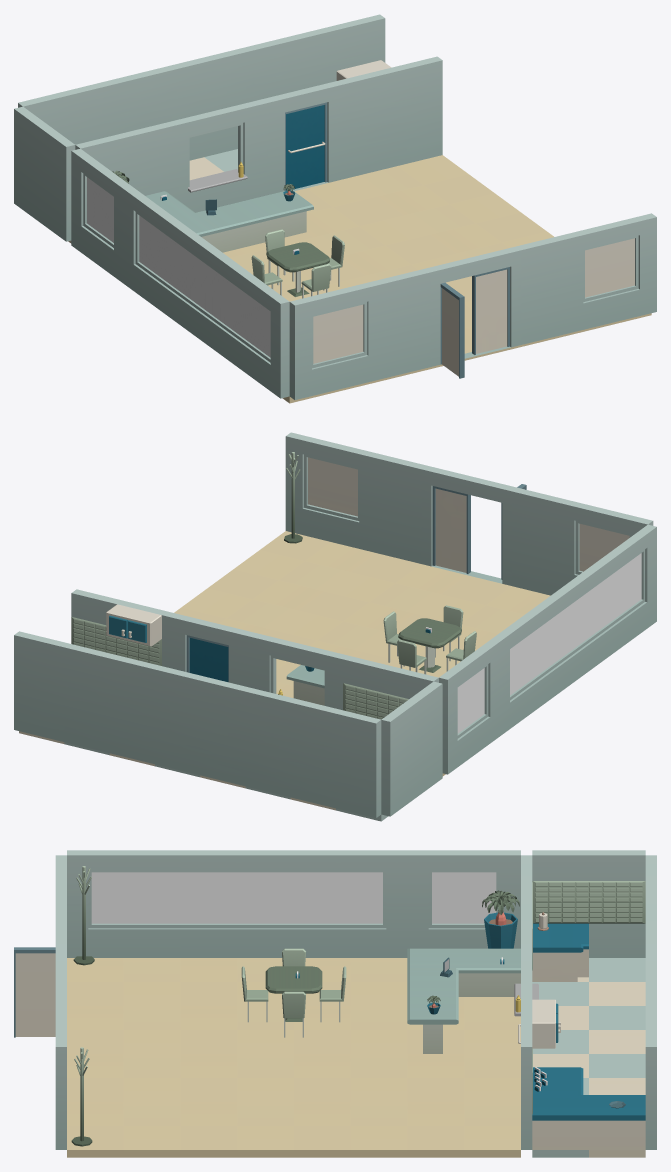
File: cafe_stage1.glb
3 renders of one model, top to bottom at view 1: azimuth 30°, elevation 25°; view 2: azimuth 150°, elevation 25°; view 3: azimuth 270°, elevation 25°, orthographic. The views are drawn at different scales.
Visible parts, largest first — view 1: Plane.031_Material_0, Window.006_Material_0, Window.005_Material_0, WallFood.005_Material_0, Door.005_Material_0, Plane.027_Material_0, Plane.017_Material_0.001, Plane.019_Material_0.001, Plane.015_Material_0.001, FloorBig.060_Material_0, FloorBig.064_Material_0, WallSmall.002_Material_0 (+28 smaller); view 2: Plane.021_Material_0.001, Plane.019_Material_0.001, Plane.015_Material_0.001, Plane.017_Material_0.001, Window.005_Material_0, Plane.027_Material_0, Window.004_Material_0, FloorBig.068_Material_0, FloorBig.071_Material_0, WallSmall.001_Material_0, WallSmall.002_Material_0, FloorBig.072_Material_0 (+29 smaller); view 3: PanoramicWindowSide.001_Material_0, PanoramicWindowSide.002_Material_0, Window.004_Material_0, PanoramicWindowMiddle..001_Material_0, FloorBig.060_Material_0, FloorBig.064_Material_0, FloorBig.068_Material_0, FloorBig.072_Material_0, PanoramicWindowMiddleGlass.001_Material_0, Plane.027_Material_0, FloorBig.059_Material_0, FloorBig.063_Material_0 (+46 smaller).
Boxes of the visible parts, bbox=[...] form: Plane.031_Material_0: bbox=[347, 56, 442, 176]; Window.006_Material_0: bbox=[289, 279, 385, 399]; Window.005_Material_0: bbox=[561, 213, 656, 333]; WallFood.005_Material_0: bbox=[166, 100, 261, 212]; Door.005_Material_0: bbox=[257, 78, 351, 196]; Plane.027_Material_0: bbox=[14, 106, 75, 241]; Plane.017_Material_0.001: bbox=[199, 36, 294, 156]; Plane.019_Material_0.001: bbox=[109, 58, 204, 160]; Plane.015_Material_0.001: bbox=[290, 14, 385, 90]; FloorBig.060_Material_0: bbox=[352, 155, 494, 215]; FloorBig.064_Material_0: bbox=[405, 193, 546, 253]; WallSmall.002_Material_0: bbox=[380, 268, 430, 377]; Plane.021_Material_0.001: bbox=[285, 697, 381, 817]; Plane.019_Material_0.001: bbox=[195, 675, 290, 795]; Plane.015_Material_0.001: bbox=[14, 631, 109, 751]; Plane.017_Material_0.001: bbox=[104, 653, 199, 773]; Window.005_Material_0: bbox=[285, 432, 381, 552]; Plane.027_Material_0: bbox=[381, 681, 442, 816]; Window.004_Material_0: bbox=[439, 639, 500, 774]; FloorBig.068_Material_0: bbox=[181, 569, 323, 629]; FloorBig.071_Material_0: bbox=[324, 553, 466, 613]; WallSmall.001_Material_0: bbox=[376, 454, 426, 563]; WallSmall.002_Material_0: bbox=[512, 487, 561, 595]; FloorBig.072_Material_0: bbox=[234, 531, 375, 591]; PanoramicWindowSide.001_Material_0: bbox=[294, 850, 407, 957]; PanoramicWindowSide.002_Material_0: bbox=[67, 850, 180, 957]; Window.004_Material_0: bbox=[407, 850, 520, 948]; PanoramicWindowMiddle..001_Material_0: bbox=[180, 850, 293, 957]; FloorBig.060_Material_0: bbox=[407, 1102, 520, 1157]; FloorBig.064_Material_0: bbox=[294, 1102, 407, 1157]; FloorBig.068_Material_0: bbox=[180, 1102, 293, 1157]; FloorBig.072_Material_0: bbox=[67, 1102, 180, 1157]; PanoramicWindowMiddleGlass.001_Material_0: bbox=[180, 872, 293, 923]; Plane.027_Material_0: bbox=[532, 850, 645, 957]; FloorBig.059_Material_0: bbox=[407, 1054, 520, 1101]; FloorBig.063_Material_0: bbox=[294, 1054, 407, 1101].
Size of the model in its own units: 820 by 215 by 1133.
2 materials, 1 textured.
